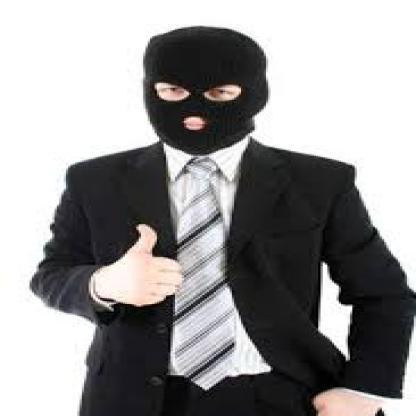criminal: (29, 26, 416, 416)
